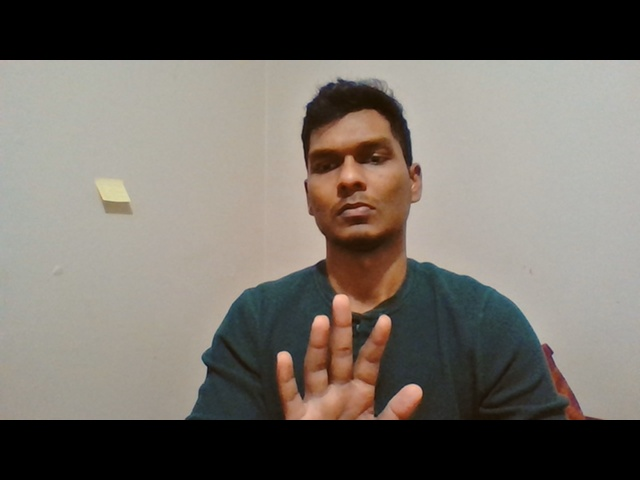Hello: (273, 293, 423, 419)
